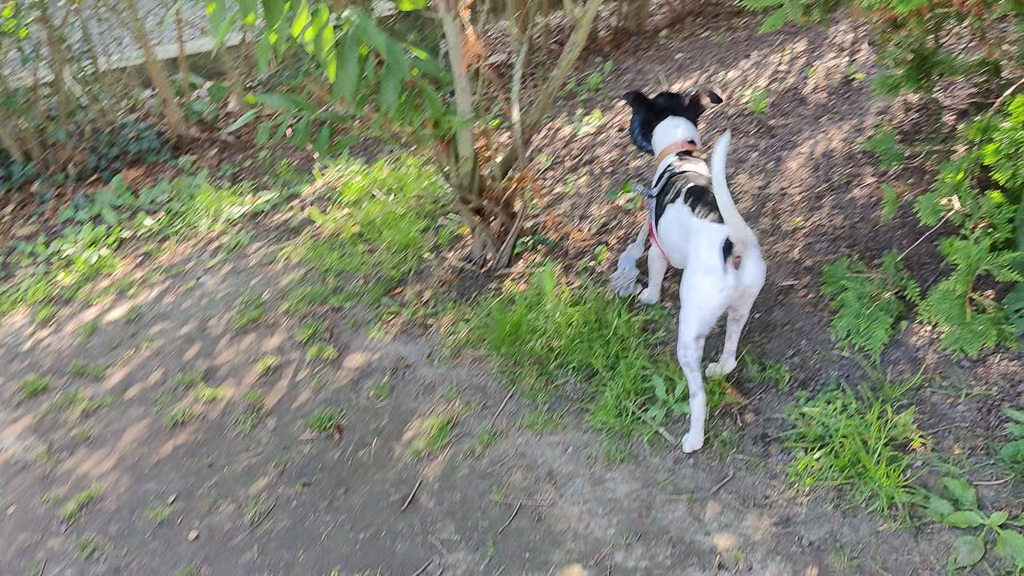Dog: (576, 75, 798, 468)
